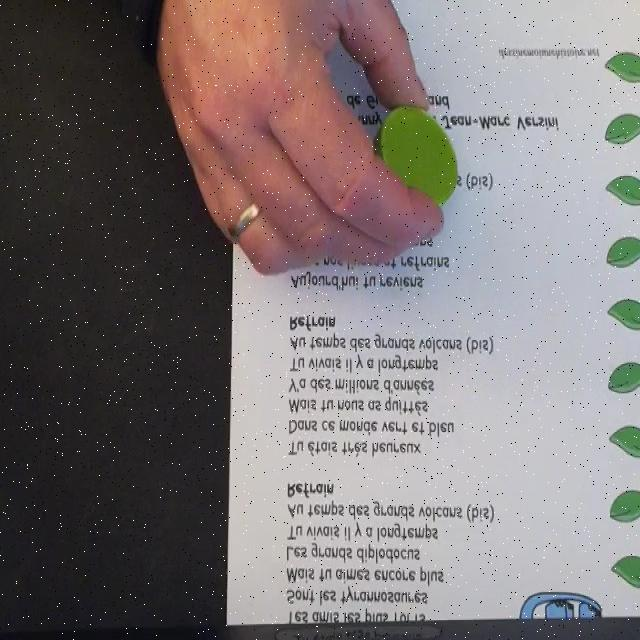round: (373, 105, 459, 210)
